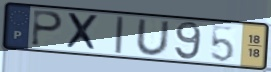5: (209, 23, 237, 63)
9: (172, 20, 204, 62)
I: (113, 15, 126, 55)
P: (30, 9, 65, 49)
U: (134, 18, 171, 57)
X: (64, 11, 100, 53)
